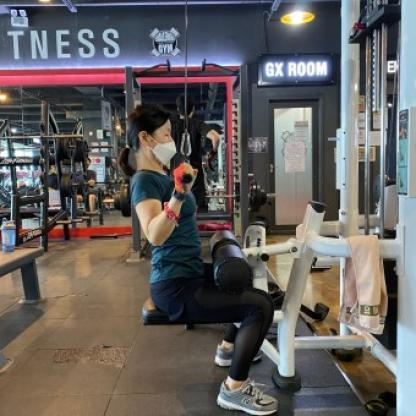Lat Pull Down: (97, 3, 416, 416)
